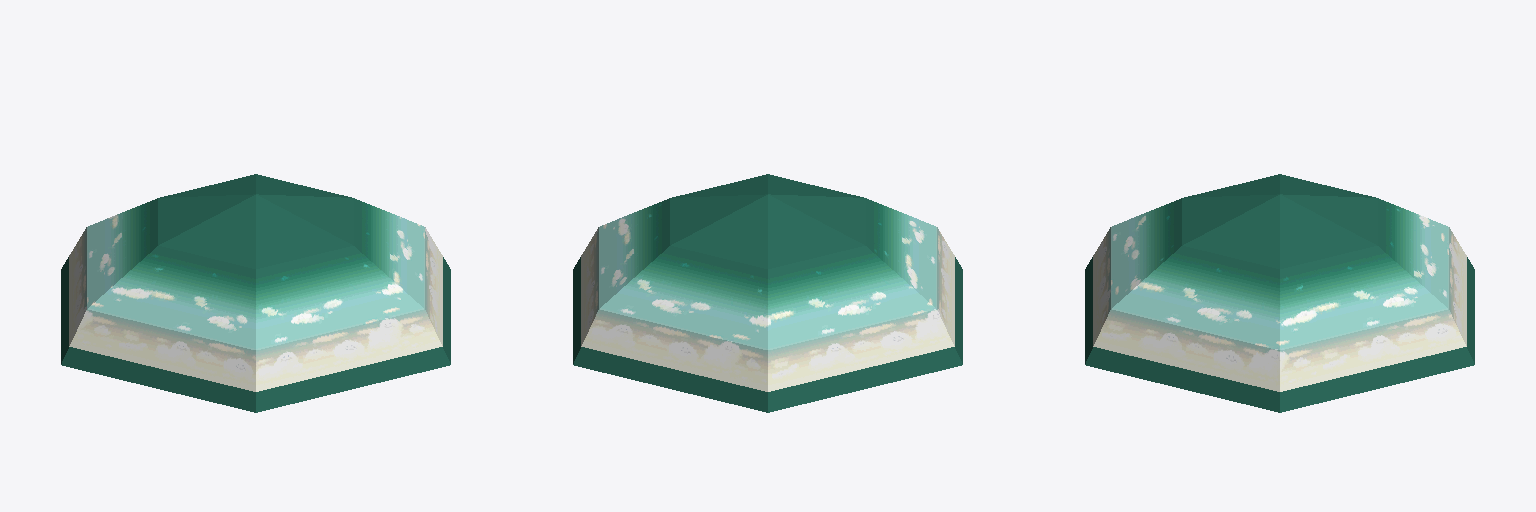
3 renders of one model, left to right at view 1: azimuth 30°, elevation 25°; view 2: azimuth 150°, elevation 25°; view 3: azimuth 270°, elevation 25°, orthographic.
Size of the model in its own units: 1515 by 457 by 1312.
1 materials, 1 textured.